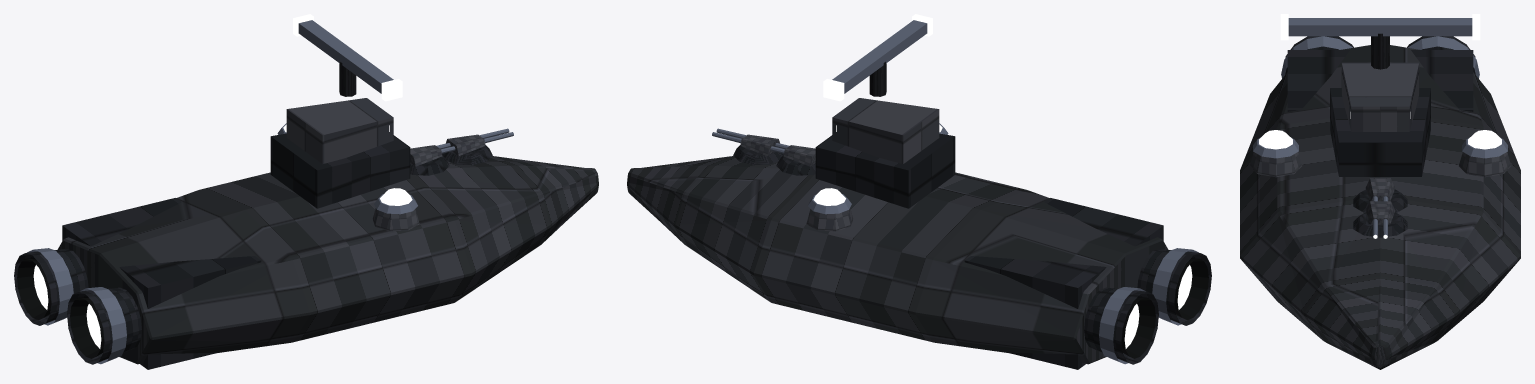
File: command_ship.glb
3 renders of one model, left to right at view 1: azimuth 30°, elevation 25°; view 2: azimuth 150°, elevation 25°; view 3: azimuth 270°, elevation 25°, orthographic. The views are drawn at different scales.
Visible parts, largest first — view 1: hull_body, engine_block, sensor_tower, weapon_turrets, shield_domes; view 2: hull_body, engine_block, sensor_tower, weapon_turrets, shield_domes; view 3: hull_body, sensor_tower, engine_block, shield_domes, weapon_turrets.
Boxes of the visible parts, x1,y1,x2,y2 form: hull_body: (58, 156, 598, 364); engine_block: (14, 198, 261, 369); sensor_tower: (270, 14, 410, 208); weapon_turrets: (410, 128, 513, 175); shield_domes: (277, 123, 419, 231); hull_body: (627, 156, 1167, 364); engine_block: (964, 198, 1211, 369); sensor_tower: (815, 14, 955, 208); weapon_turrets: (712, 128, 815, 175); shield_domes: (806, 123, 948, 231); hull_body: (1240, 45, 1520, 369); sensor_tower: (1280, 14, 1480, 176); engine_block: (1281, 36, 1479, 111); shield_domes: (1249, 130, 1511, 177); weapon_turrets: (1353, 178, 1407, 238).
Bounding box in the file's own units: 56 × 24.71 × 23.44.
1 material, 1 textured.
